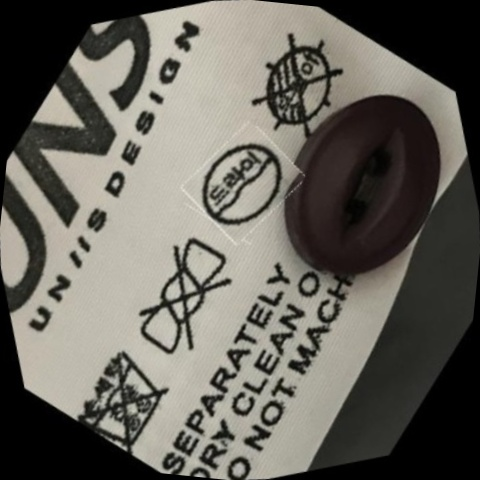DN_dry: (233, 21, 363, 152)
DN_wring: (112, 226, 258, 372)
dry_clean: (184, 124, 302, 244)
hand_wash: (62, 329, 187, 461)
